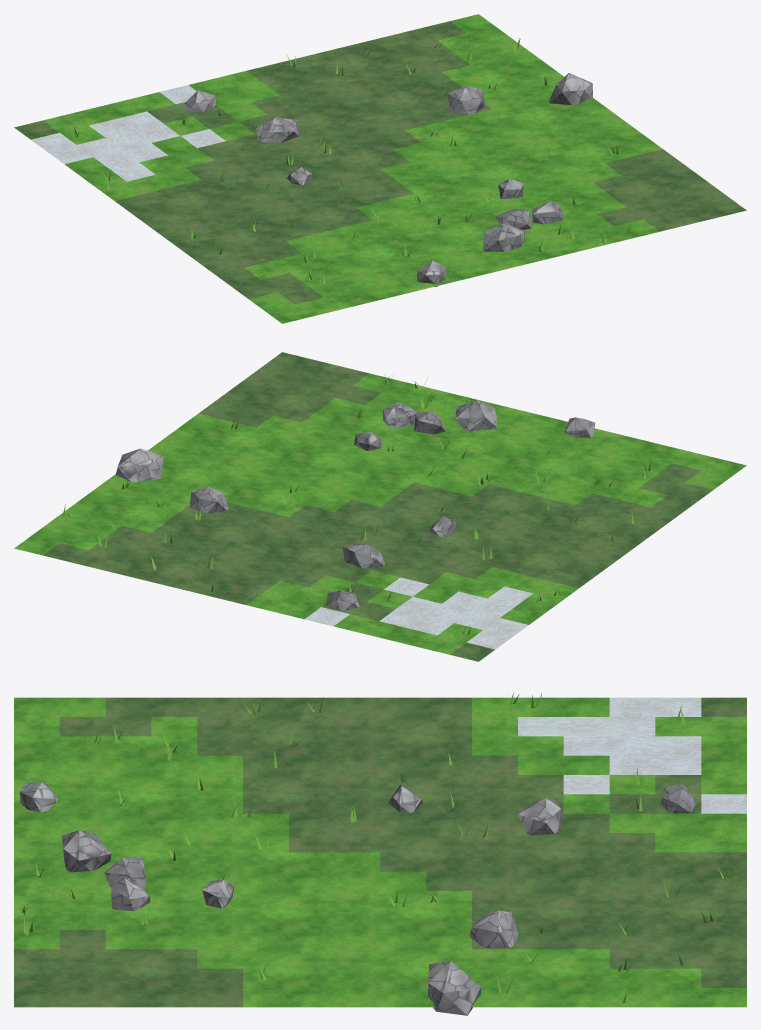
File: chunk_5_2.glb
3 views of the same model, one above another, from view 1: azimuth 30°, elevation 25°; view 2: azimuth 150°, elevation 25°; view 3: azimuth 270°, elevation 25° (orthographic). The views are drawn at different scales.
Parts seen in each view (by area): view 1: chunk_5_2; view 2: chunk_5_2; view 3: chunk_5_2.
Boxes of the visible parts, x1,y1,x2,y2 form: chunk_5_2: (14, 14, 746, 323); chunk_5_2: (14, 352, 746, 661); chunk_5_2: (14, 692, 746, 1015).
Bounding box in the file's own units: 16.1 × 1.26 × 16.
Materials: 5 (4 with a texture image).
